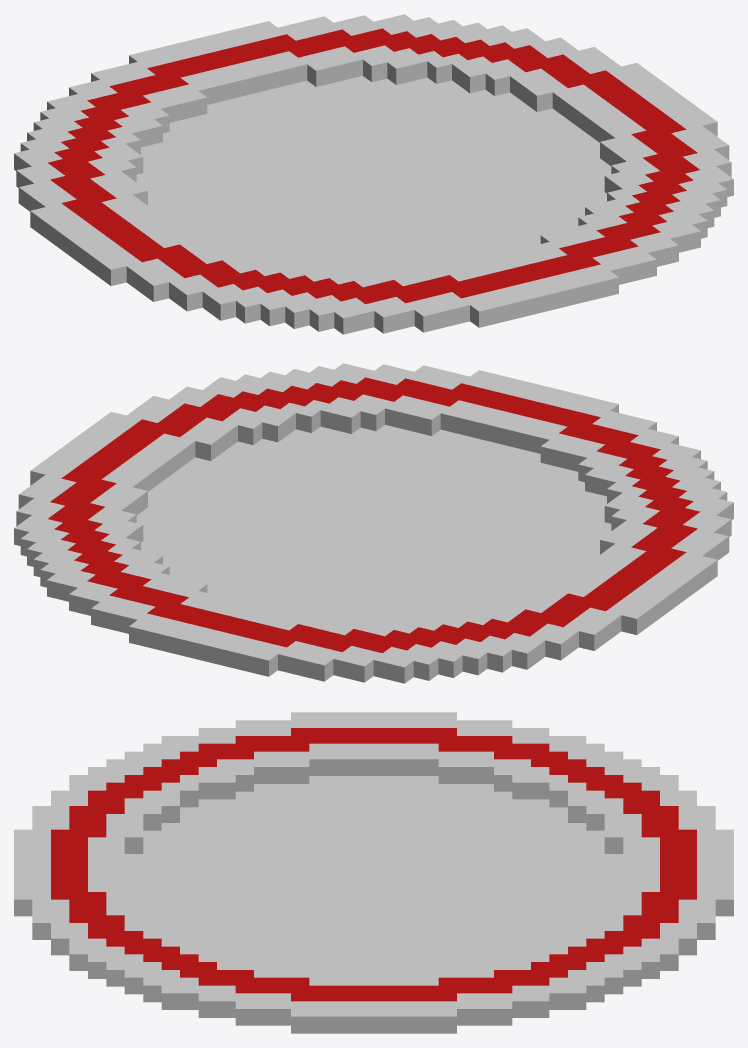
The model's file is Plate.obj.
3 renders of one model, top to bottom at view 1: azimuth 30°, elevation 25°; view 2: azimuth 150°, elevation 25°; view 3: azimuth 270°, elevation 25°, orthographic. The views are drawn at different scales.
Size of the model in its own units: 3.9 by 0.2 by 3.9.
Materials: 1 (1 with a texture image).
